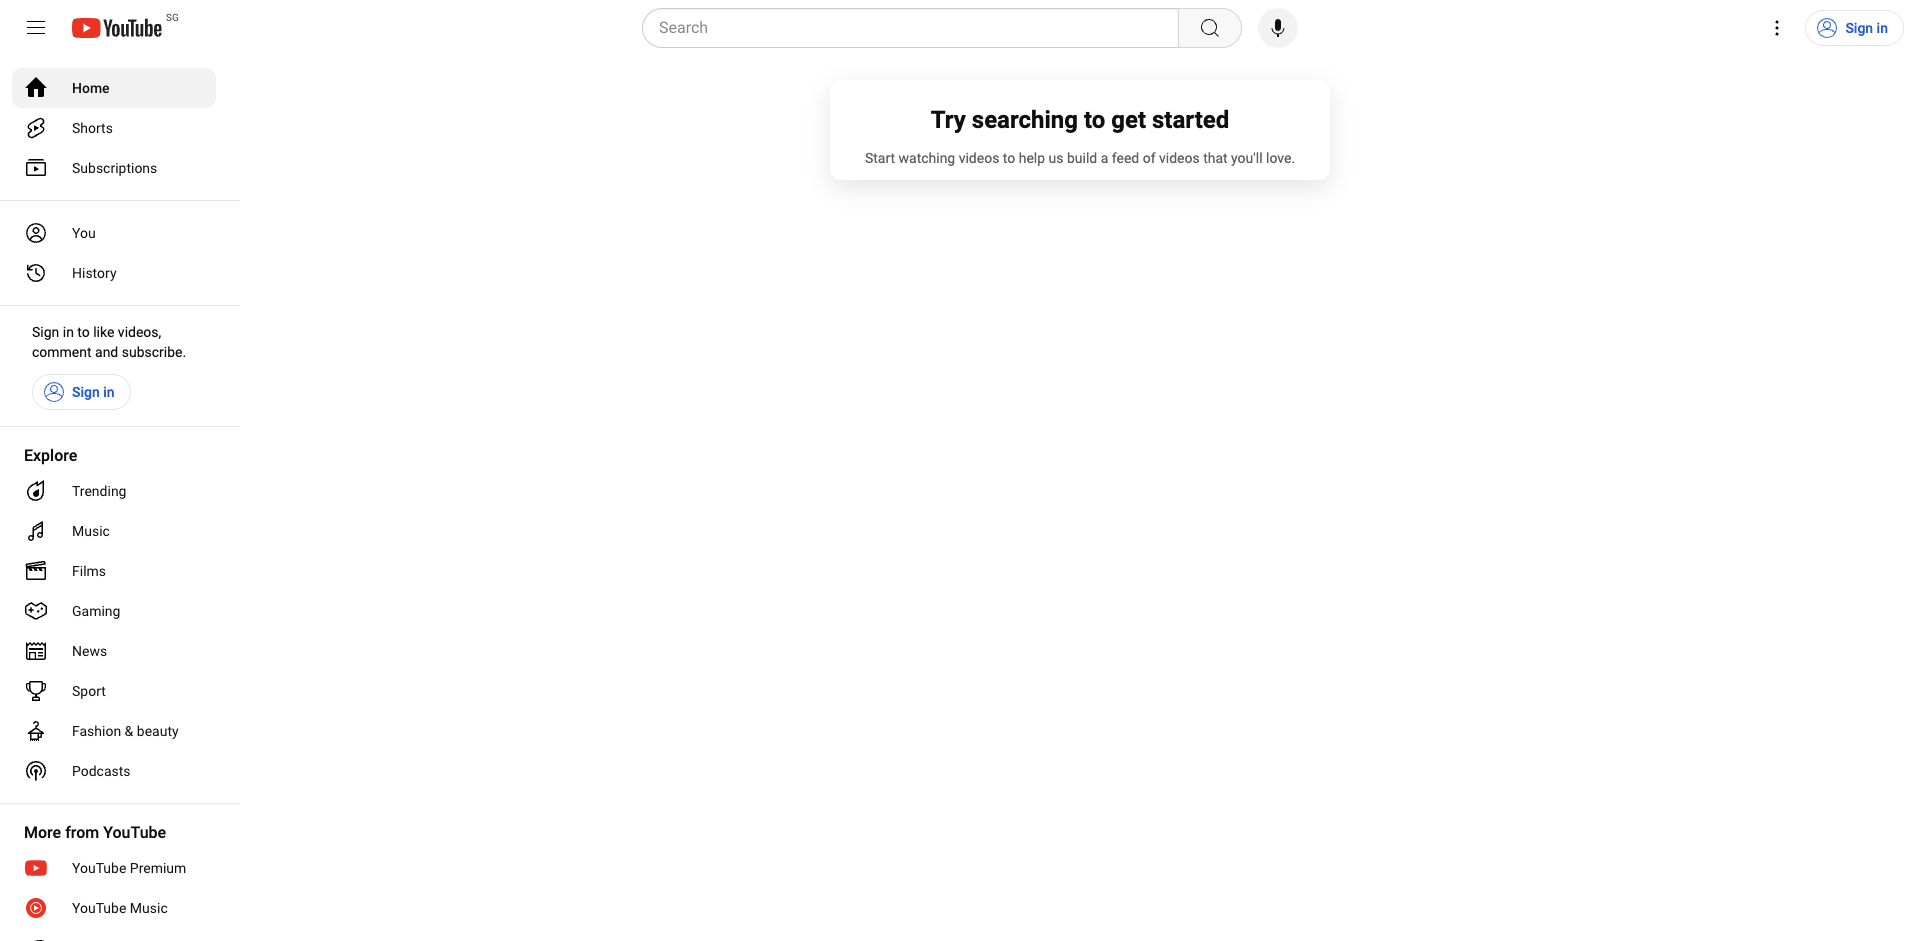button: (1805, 10, 1904, 47), (32, 374, 131, 410), (1178, 9, 1242, 48), (16, 9, 56, 48), (16, 9, 56, 48), (1258, 9, 1298, 48), (1757, 9, 1798, 48), (1757, 9, 1798, 48), (1757, 9, 1798, 48), (1757, 9, 1798, 48), (1845, 10, 1888, 47), (72, 374, 115, 410), (1266, 16, 1291, 40), (42, 380, 66, 404), (24, 16, 48, 40), (1766, 16, 1789, 40), (1766, 16, 1789, 40), (1816, 16, 1839, 40)
input: (659, 15, 1174, 40)
link: (12, 67, 216, 108), (12, 67, 216, 108), (12, 108, 216, 148), (12, 108, 216, 148), (12, 252, 216, 293), (12, 252, 216, 293), (12, 470, 216, 511), (12, 470, 216, 511), (12, 511, 216, 551), (12, 511, 216, 551), (12, 591, 216, 631), (12, 591, 216, 631), (12, 631, 216, 671), (12, 631, 216, 671), (12, 711, 216, 751), (12, 711, 216, 751), (12, 751, 216, 792), (12, 751, 216, 792), (12, 848, 216, 888), (12, 848, 216, 888), (12, 148, 216, 187), (12, 148, 216, 187), (12, 213, 216, 252), (12, 213, 216, 252), (12, 551, 216, 591), (12, 551, 216, 591), (12, 671, 216, 711), (12, 671, 216, 711), (12, 888, 216, 928), (12, 888, 216, 928), (56, 0, 176, 56), (1509, 871, 1586, 915), (12, 928, 216, 941), (12, 928, 216, 941)
